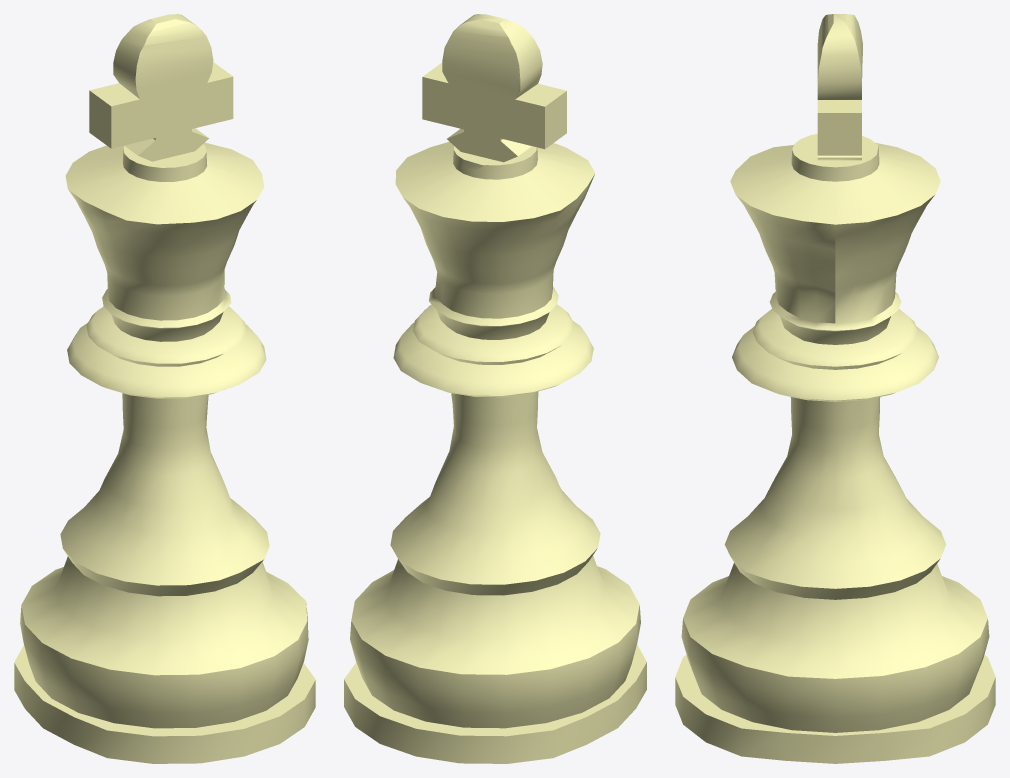
3 views of the same model, side by side, from view 1: azimuth 30°, elevation 25°; view 2: azimuth 150°, elevation 25°; view 3: azimuth 270°, elevation 25° (orthographic).
Visible parts, largest first — view 1: White_King; view 2: White_King; view 3: White_King.
Boxes of the visible parts, bbox=[...] form: White_King: bbox=[14, 14, 315, 763]; White_King: bbox=[344, 14, 646, 763]; White_King: bbox=[675, 14, 995, 763].
Size of the model in its own units: 1.86 by 4.85 by 2.05.
